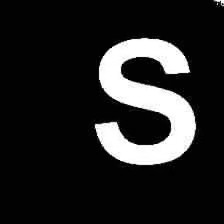LTR_S: (93, 29, 201, 170)
